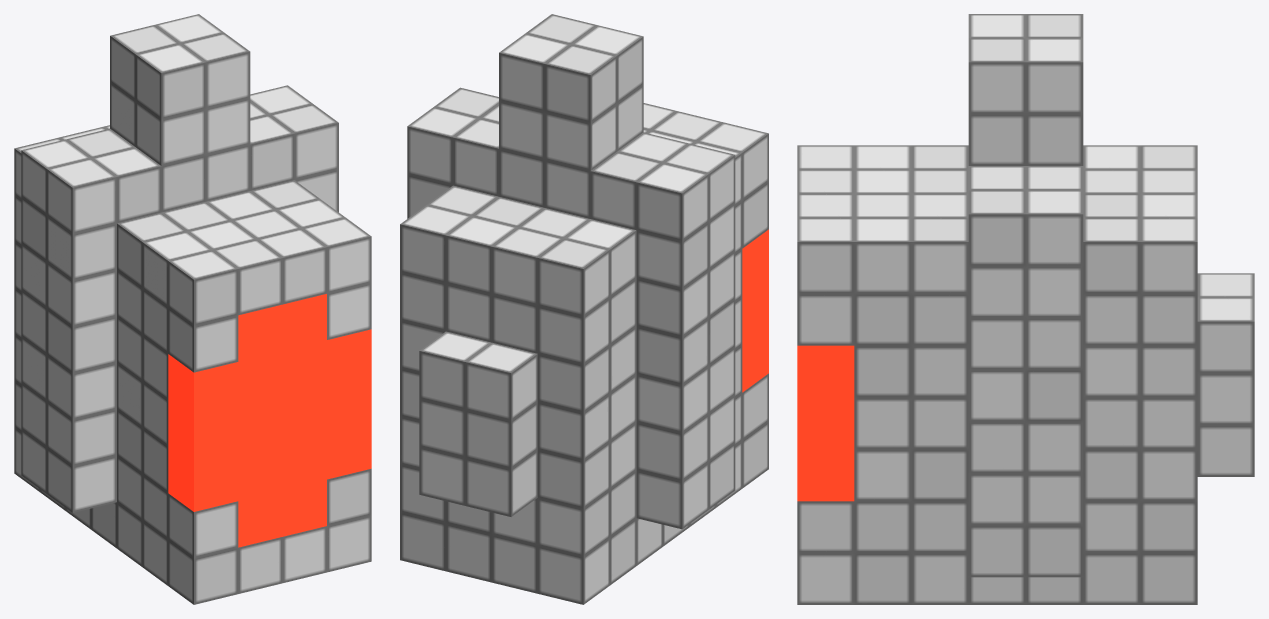
The model's file is par_light_red.glb.
The picture shows the model from 3 angles, left to right: view 1: azimuth 30°, elevation 25°; view 2: azimuth 150°, elevation 25°; view 3: azimuth 270°, elevation 25°; orthographic projection. The views are drawn at different scales.
Visible parts, largest first — view 1: par_light_red; view 2: par_light_red; view 3: par_light_red.
Part boxes in pixels (x1,y1,x2,y2): par_light_red: (14, 14, 371, 604); par_light_red: (400, 14, 768, 604); par_light_red: (797, 14, 1254, 604).
Size of the model in its own units: 0.3 by 0.5 by 0.4.
Materials: 3 (2 with a texture image).
